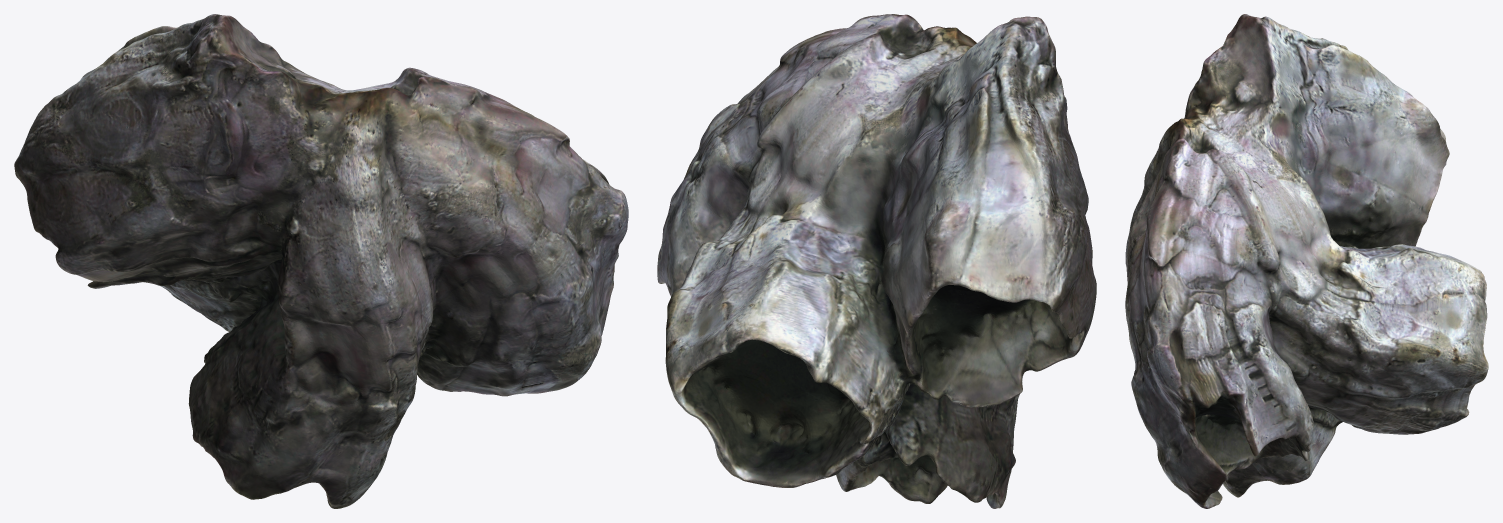
The model's file is MZUR3D-011.glb.
3 views of the same model, side by side, from view 1: azimuth 30°, elevation 25°; view 2: azimuth 150°, elevation 25°; view 3: azimuth 270°, elevation 25° (orthographic). The views are drawn at different scales.
Parts seen in each view (by area): view 1: MZUR3D-011; view 2: MZUR3D-011; view 3: MZUR3D-011.
Part boxes in pixels (x1,y1,x2,y2): MZUR3D-011: (14, 14, 628, 508); MZUR3D-011: (657, 14, 1096, 508); MZUR3D-011: (1125, 14, 1488, 508).
Bounding box in the file's own units: 1.19 × 1.19 × 0.9056.
1 material, 1 textured.
